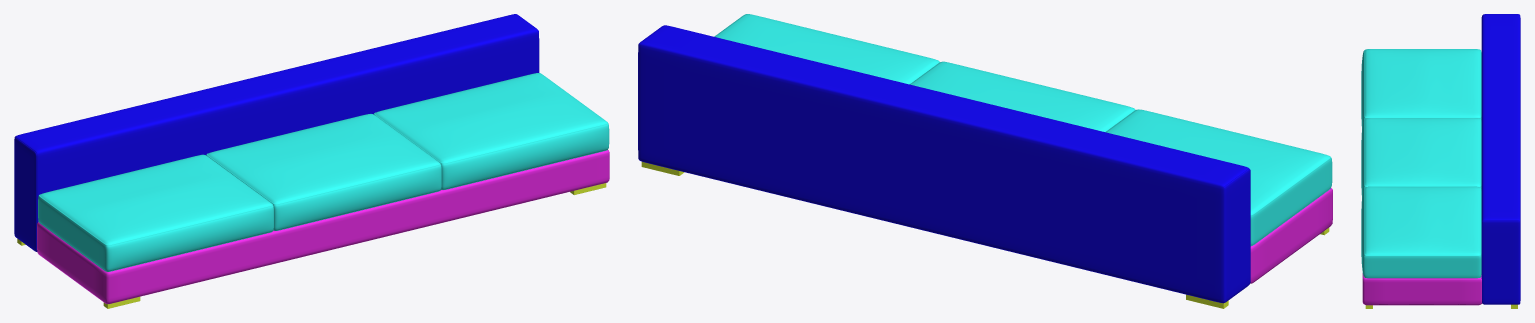
File: Sopa1.fbx
3 renders of one model, left to right at view 1: azimuth 30°, elevation 25°; view 2: azimuth 150°, elevation 25°; view 3: azimuth 270°, elevation 25°, orthographic. The views are drawn at different scales.
Visible parts, largest first — view 1: Object002, Object003, Object005, Object004; view 2: Object003, Object002, Object005, Object004; view 3: Object002, Object003, Object005.
Part boxes in pixels (<box>): Object002: <box>38,73,609,271</box>; Object003: <box>14,14,539,251</box>; Object005: <box>37,150,609,304</box>; Object004: <box>17,183,606,308</box>; Object003: <box>638,25,1250,303</box>; Object002: <box>714,14,1332,245</box>; Object005: <box>1250,188,1332,283</box>; Object004: <box>641,161,1329,308</box>; Object002: <box>1361,49,1481,278</box>; Object003: <box>1481,14,1520,304</box>; Object005: <box>1362,273,1482,305</box>.
Size of the model in its own units: 118 by 24.02 by 38.43.
